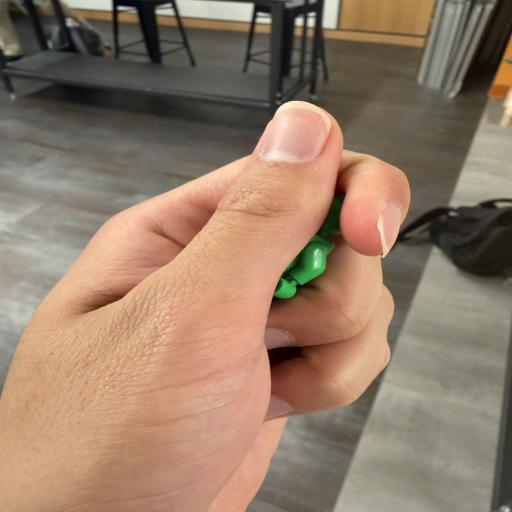Green-Lego: (274, 193, 345, 299)
